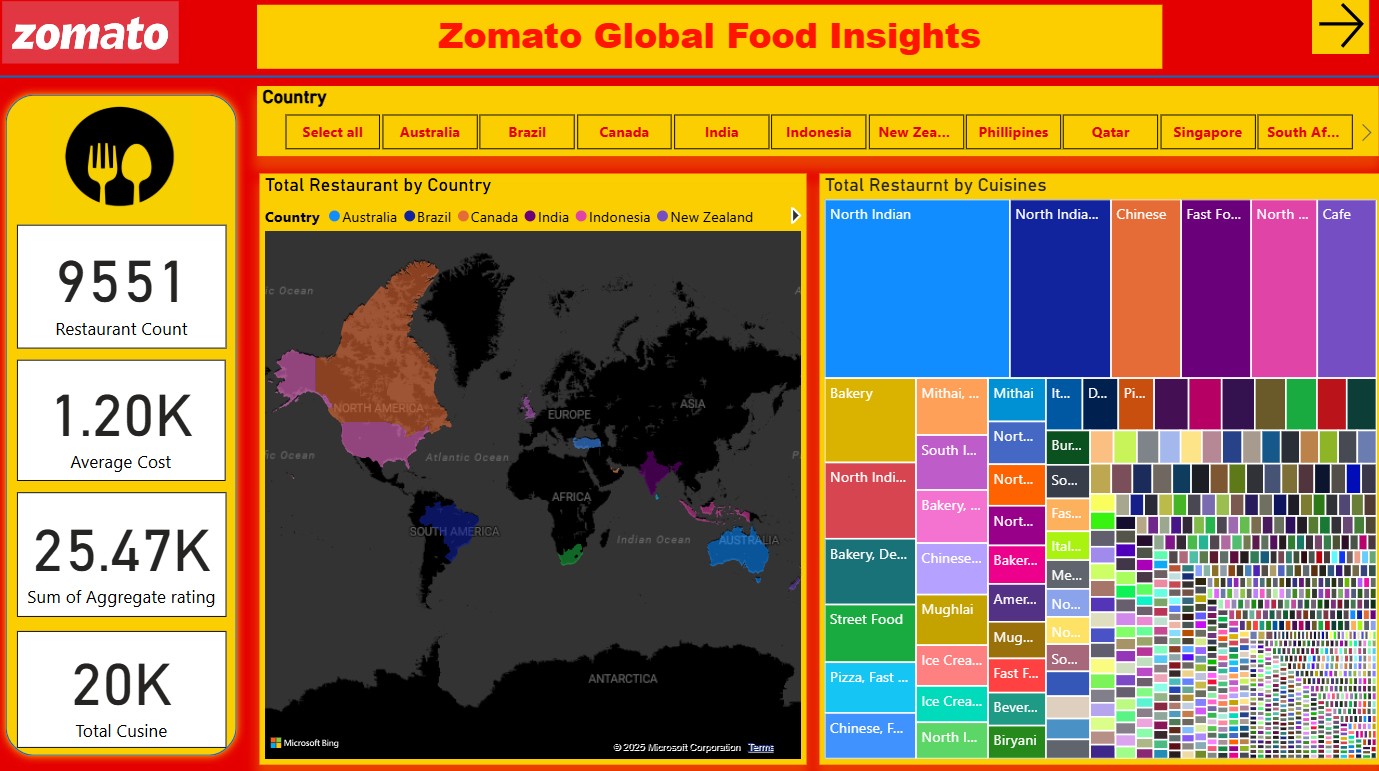

The page's visual inventory and layout, read from the dashboard file:
{"tool":"powerbi","page":{"name":"Zomato Global Food Insights","canvas":[1280,720],"ordinal":0},"visuals":[{"type":"shape","box":[0,83.4,229.4,627],"z":0},{"type":"card","fields":{"Values":["Zomato Global.Restaurant Count"]},"box":[18.4,211,193.9,114.1],"z":1000},{"type":"card","fields":{"Values":["Fact Table.Average Cost"]},"box":[18.4,336.2,192.6,111.7],"z":2000},{"type":"card","fields":{"Values":["Sum(Fact Table.Aggregate rating)"]},"box":[18.4,458.9,193.9,115.3],"z":3000},{"type":"card","fields":{"Values":["Cuisines.Total Cusine"]},"box":[18.4,586.5,193.9,108],"z":4000},{"type":"filledMap","title":"Total Restaurant by Country","fields":{"Category":["Country-Code.Country"],"Series":["Country-Code.Country"]},"box":[242.9,164.4,505.5,546],"z":5000},{"type":"treemap","title":"Total Restaurnt by Cuisines","fields":{"Values":["Zomato Global.Restaurant Count"],"Group":["Zomato Global.Cuisines"]},"box":[760,164,520,546],"z":6000},{"type":"slicer","title":"Country","fields":{"Values":["Country-Code.Country"]},"box":[240.5,83.4,1036.8,65],"z":7000},{"type":"image","box":[0,0,173,67.5],"z":8000},{"type":"actionButton","box":[1216,0,52.8,54],"z":9000},{"type":"shape","box":[0,66.3,1277.3,17.2],"z":10000},{"type":"textbox","box":[240.5,8.6,836.8,58.9],"z":11000},{"type":"image","box":[44.2,93.3,142.3,117.8],"z":12000}]}

Visuals, with their boxes in screenshot pixels (x1, y1, x2, y2), scaled from the page's 1280x720 canvas onto the 1379x771 screenshot:
shape: 0 89 247 761
card - Zomato Global.Restaurant Count: 20 226 229 348
card - Fact Table.Average Cost: 20 360 227 480
card - Sum(Fact Table.Aggregate rating): 20 491 229 615
card - Cuisines.Total Cusine: 20 628 229 744
"Total Restaurant by Country" filledMap: 262 176 806 761
"Total Restaurnt by Cuisines" treemap: 819 176 1378 760
"Country" slicer: 259 89 1376 159
image: 0 0 186 72
actionButton: 1310 0 1367 58
shape: 0 71 1376 89
textbox: 259 9 1161 72
image: 48 100 201 226
